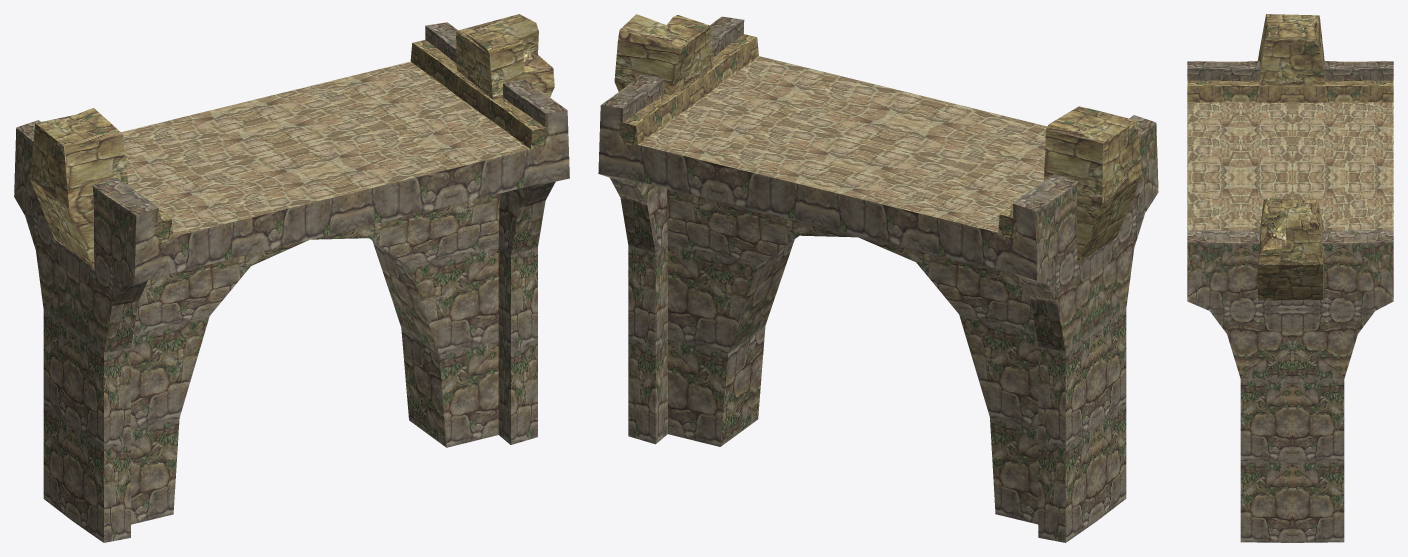
The model's file is C3SMBRIDGE_M26H.obj.
3 views of the same model, side by side, from view 1: azimuth 30°, elevation 25°; view 2: azimuth 150°, elevation 25°; view 3: azimuth 270°, elevation 25° (orthographic). The views are drawn at different scales.
Visible parts, largest first — view 1: Node 0; view 2: Node 0; view 3: Node 0.
Boxes of the visible parts, left/top/right/bottom form: Node 0: left=14, top=14, right=569, bottom=542; Node 0: left=598, top=14, right=1158, bottom=542; Node 0: left=1187, top=14, right=1393, bottom=542.
Bounding box in the file's own units: 35.05 × 27.29 × 14.99.
Materials: 2 (2 with a texture image).
